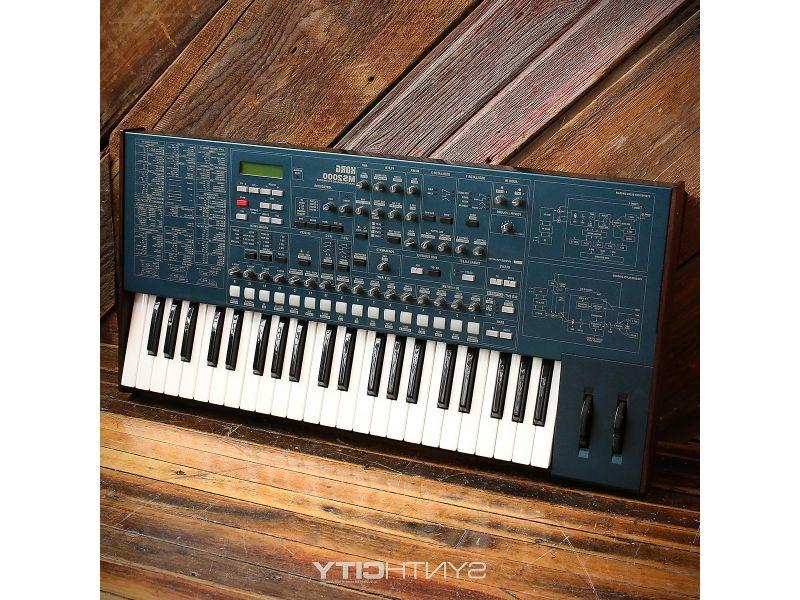synthesizer: (114, 118, 686, 506)
